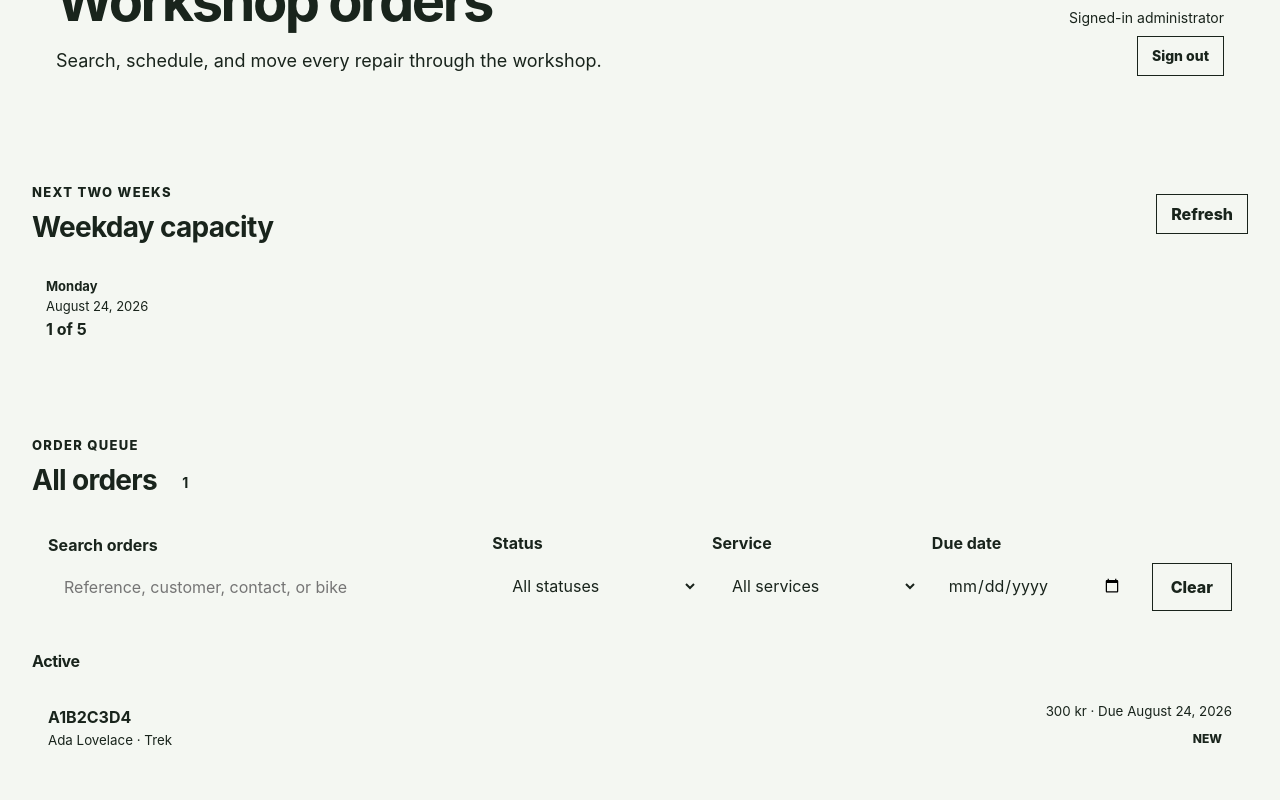
Test: AdminPage › opens the selected order in a modal and closes it
This screenshot has width=1280, height=800.
(page scrolled)
Click the button "A1B2C3D4". click: (90, 717)
box: [32,687,1248,768]
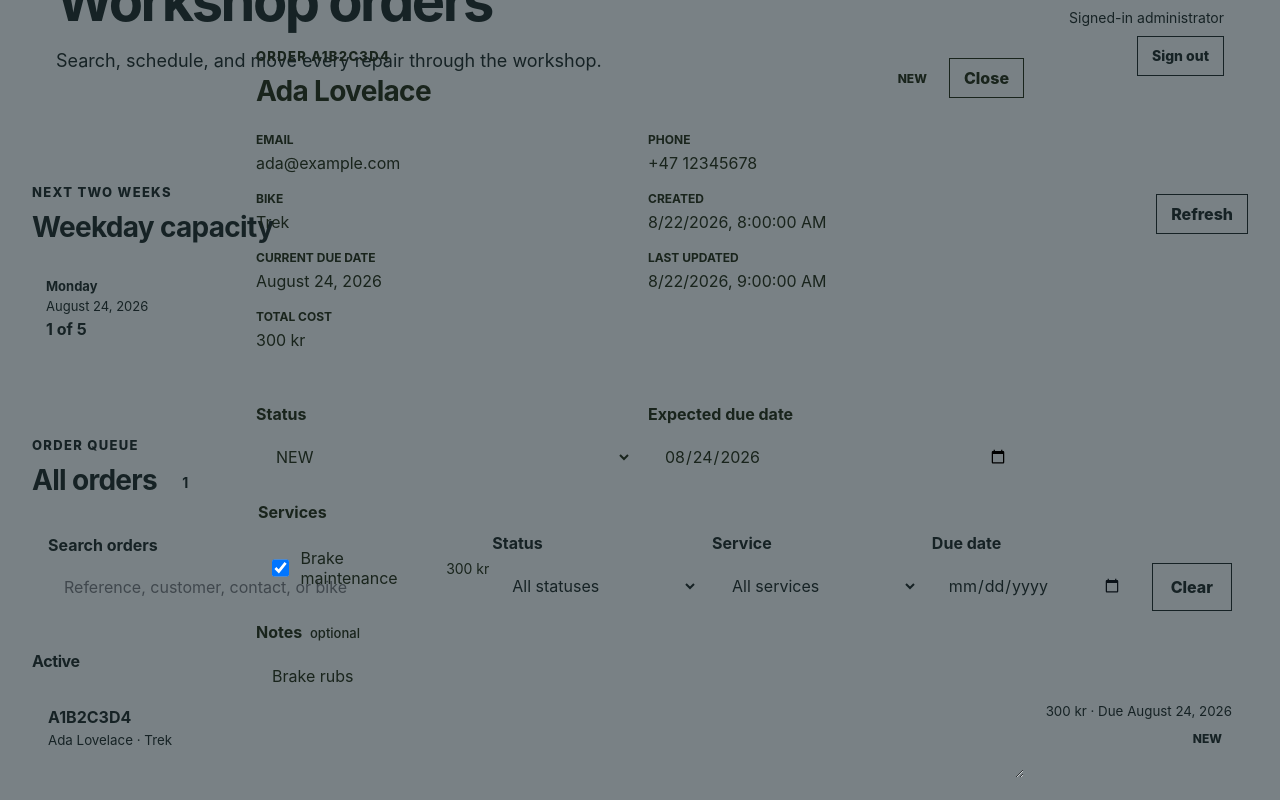
Check: the dialog "Ada Lovelace" is shown
Type keys "{Shift>}{Tab}{/Shift}"
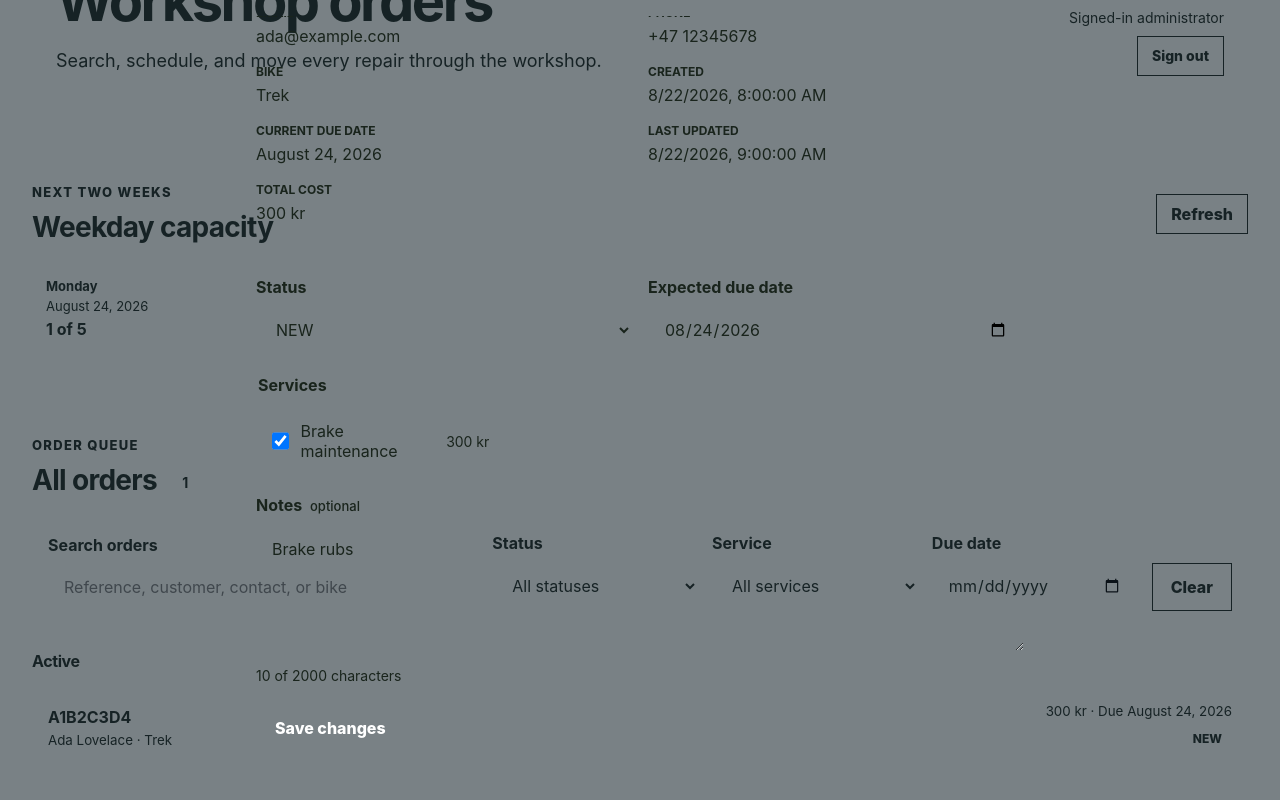
Press Tab
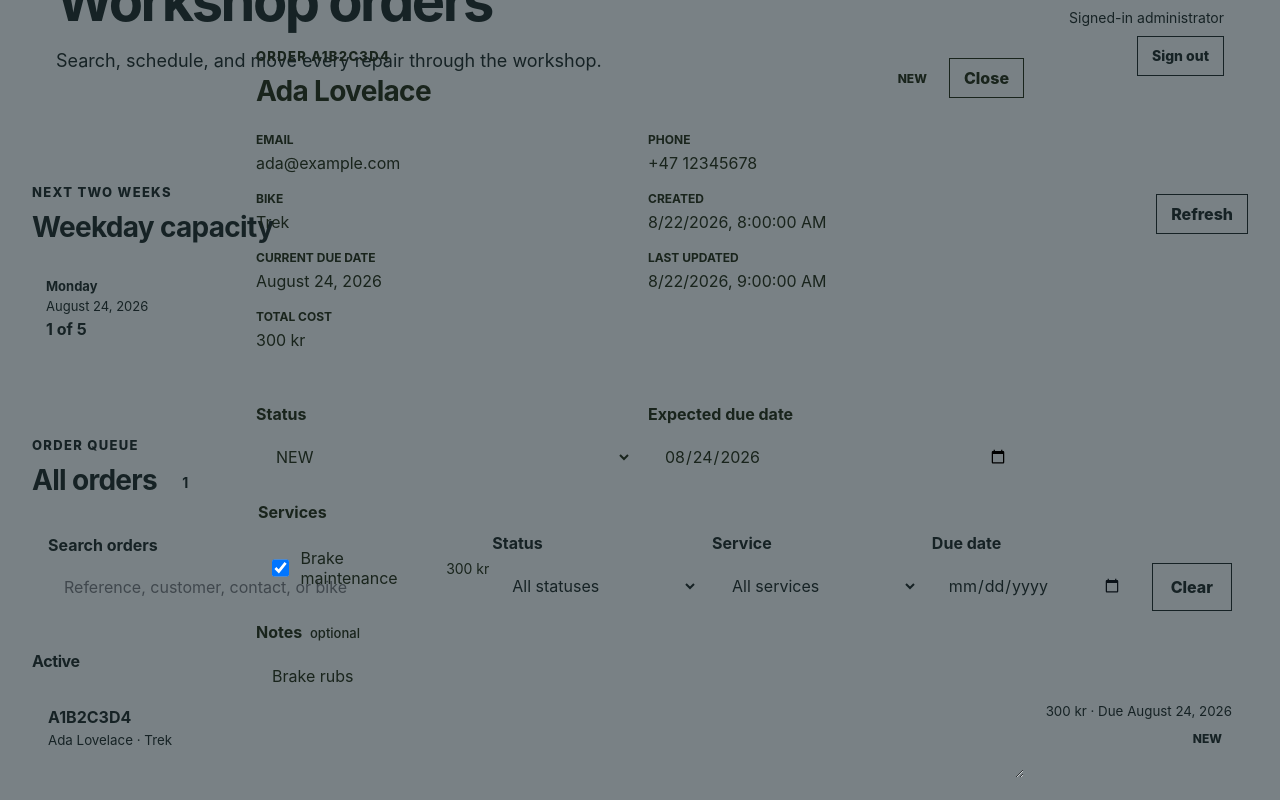
Click the button with aria-label "Close order editor". click: (986, 78)
box: [949,58,1024,98]
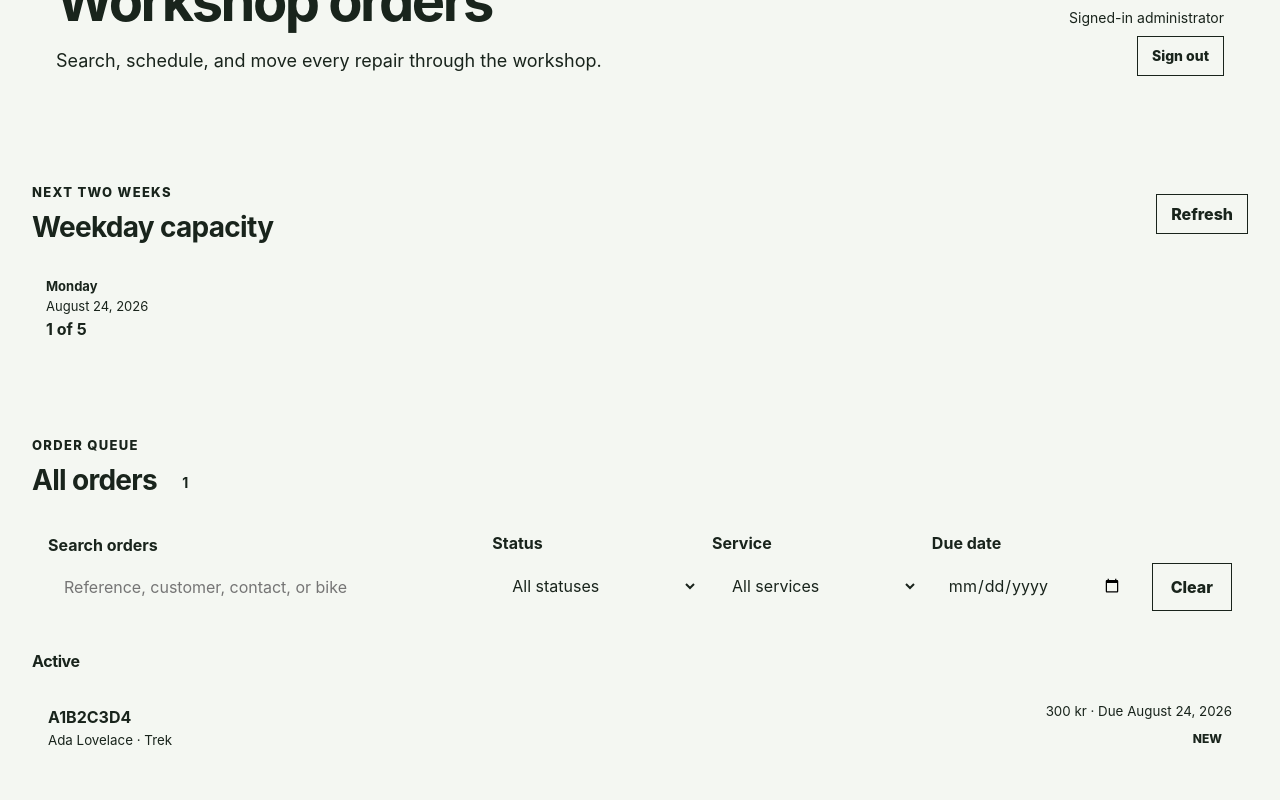
Check: the dialog is gone
